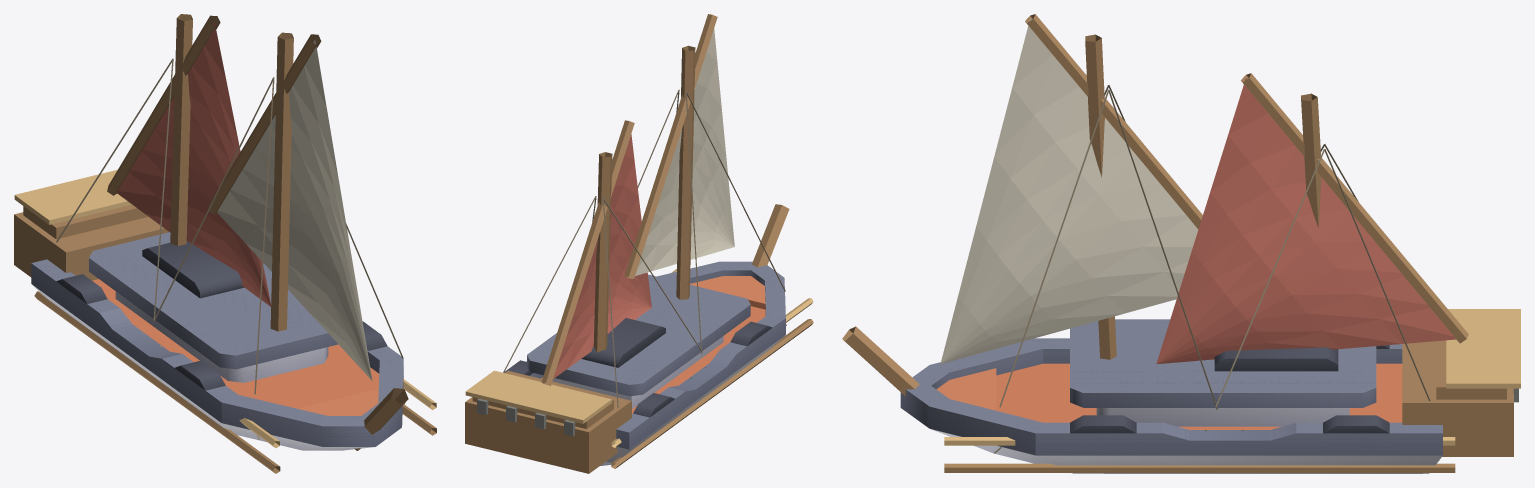
Rendered from baghlah-custom.glb.
The picture shows the model from 3 angles, left to right: view 1: azimuth 30°, elevation 25°; view 2: azimuth 150°, elevation 25°; view 3: azimuth 270°, elevation 25°; orthographic projection. The views are drawn at different scales.
Visible parts, largest first — view 1: boat-sail-b, baghlah wood, baghlah light, baghlah red, baghlah gold, baghlah rope; view 2: boat-sail-b, baghlah wood, baghlah light, baghlah red, baghlah gold, baghlah rope, baghlah dark; view 3: boat-sail-b, baghlah light, baghlah red, baghlah wood, baghlah gold, baghlah rope.
Boxes of the visible parts, box(x1,y1,x2,y2) form: boat-sail-b: box(31, 232, 403, 450); baghlah wood: box(14, 14, 436, 473); baghlah light: box(217, 39, 372, 380); baghlah red: box(116, 21, 271, 306); baghlah gold: box(14, 170, 436, 447); baghlah rope: box(56, 58, 404, 439); boat-sail-b: box(504, 261, 785, 465); baghlah wood: box(465, 14, 813, 473); baghlah light: box(635, 28, 734, 275); baghlah red: box(553, 134, 651, 378); baghlah gold: box(465, 269, 813, 447); baghlah rope: box(503, 89, 786, 408); baghlah dark: box(477, 398, 575, 436); boat-sail-b: box(900, 319, 1442, 473); baghlah light: box(940, 19, 1198, 363); baghlah red: box(1156, 78, 1456, 364); baghlah wood: box(842, 14, 1513, 472); baghlah gold: box(944, 309, 1520, 445); baghlah rope: box(994, 85, 1430, 453).
Bounding box in the file's own units: 4.14 × 8.87 × 12.48.
Materials: 7 (1 with a texture image).
